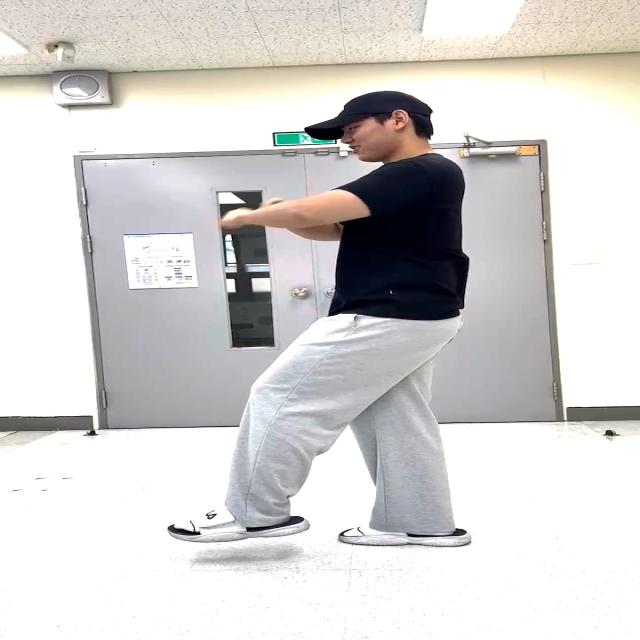leg: (190, 302, 368, 568)
